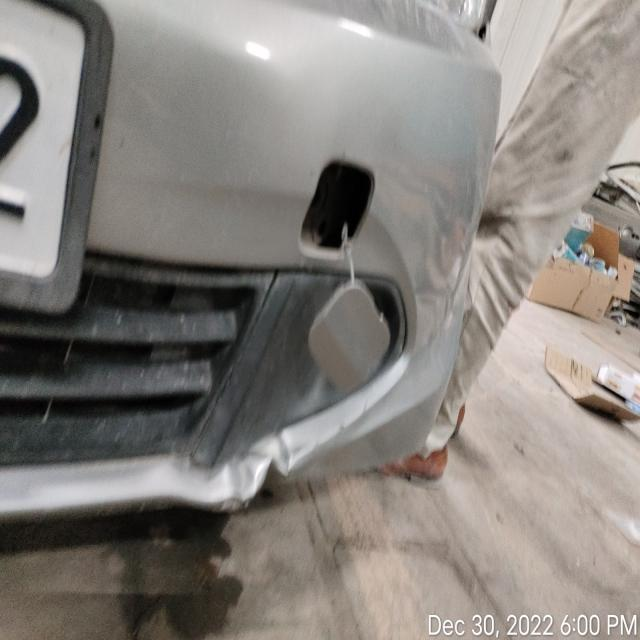damage: (160, 426, 338, 505)
